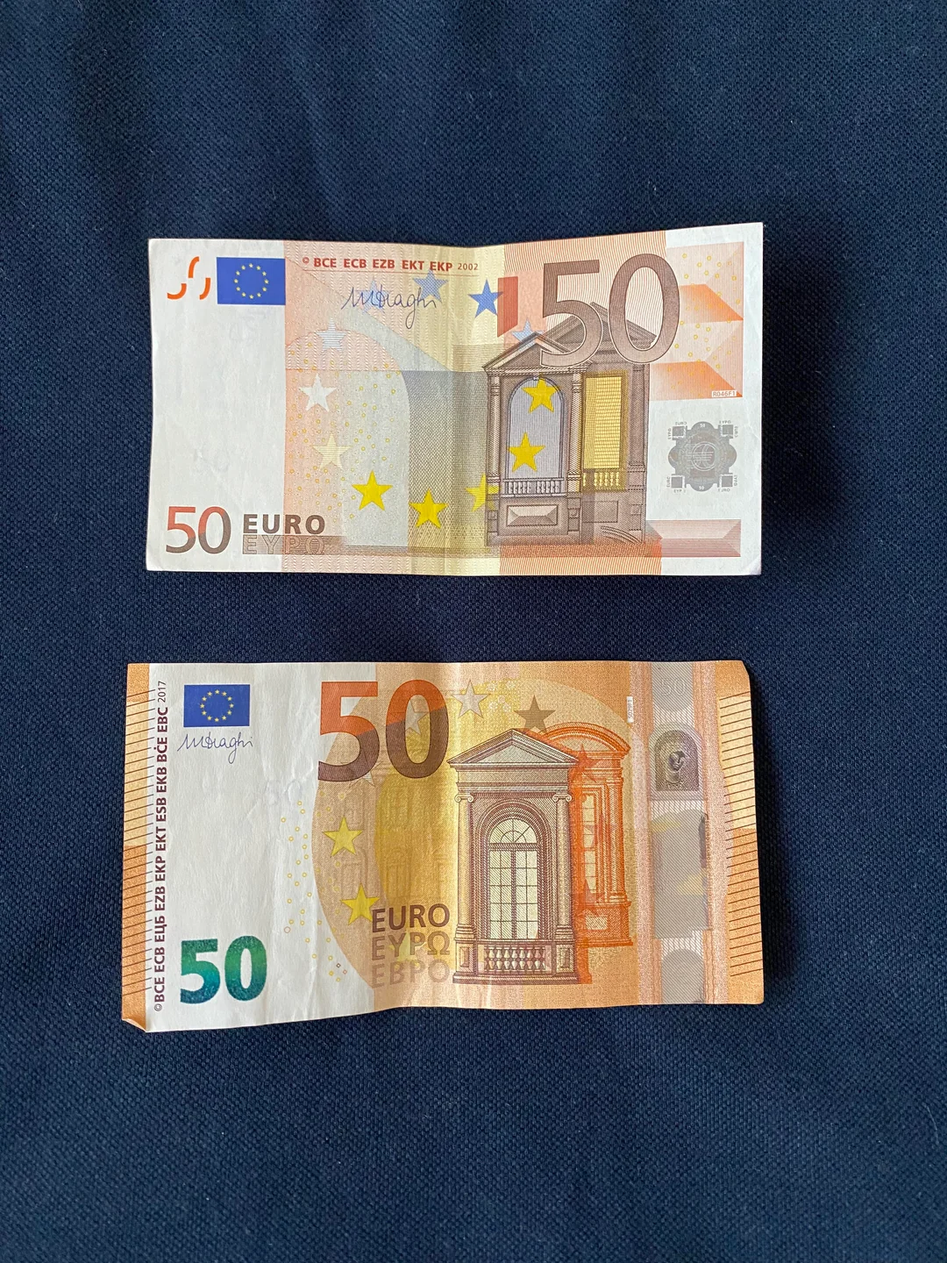Nota de 50€: (107, 646, 789, 1041), (131, 217, 782, 601)
